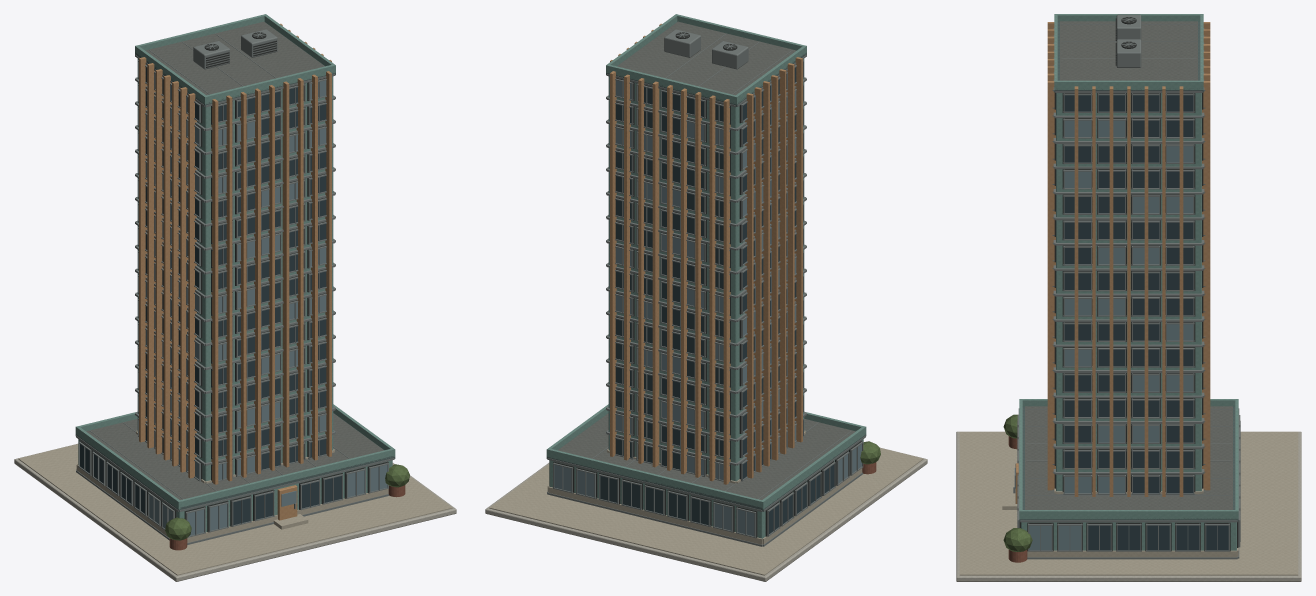
The model's file is EXP_TOWER_COPPER.glb.
3 renders of one model, left to right at view 1: azimuth 30°, elevation 25°; view 2: azimuth 150°, elevation 25°; view 3: azimuth 270°, elevation 25°, orthographic. The views are drawn at different scales.
Parts seen in each view (by area): view 1: EXP_TOWER_COPPER_Visual; view 2: EXP_TOWER_COPPER_Visual; view 3: EXP_TOWER_COPPER_Visual.
Boxes of the visible parts, x1,y1,x2,y2 form: EXP_TOWER_COPPER_Visual: (14,14,456,581); EXP_TOWER_COPPER_Visual: (485,14,927,581); EXP_TOWER_COPPER_Visual: (956,14,1301,581).
Size of what is drawn, in the model's own units: 5.92 by 9.03 by 5.92.
Materials: 12 (8 with a texture image).
